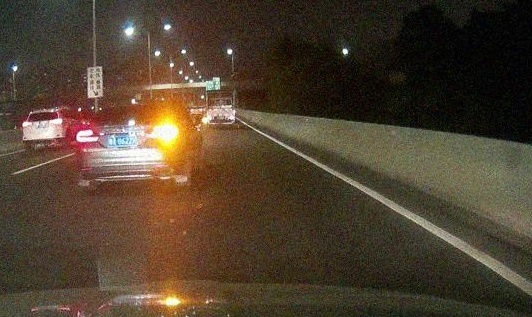L_light: (75, 128, 99, 143), (22, 121, 32, 128)
R_light: (153, 125, 179, 139), (51, 118, 63, 125)
T_light: (125, 104, 143, 109), (40, 111, 49, 114)
night-no: (22, 108, 65, 148)
night-right: (75, 100, 185, 189)
